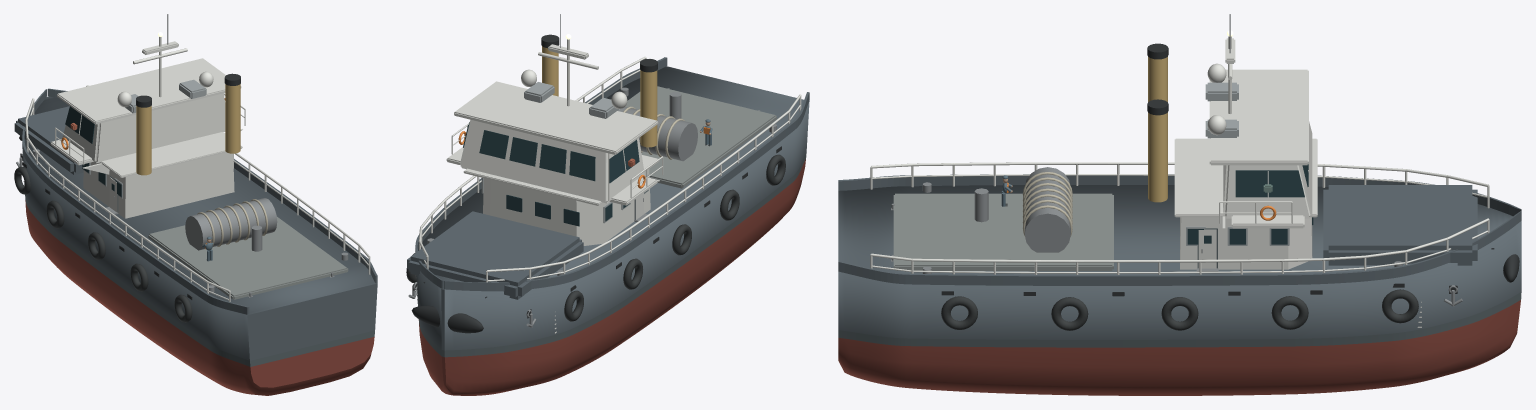
File: tug.glb
3 renders of one model, left to right at view 1: azimuth 30°, elevation 25°; view 2: azimuth 150°, elevation 25°; view 3: azimuth 270°, elevation 25°, orthographic. The views are drawn at different scales.
Visible parts, largest first — view 1: hull, white, bottom, deck, metal, stripe, ochre, rubber, sand, window, frame, black; view 2: hull, white, bottom, deck, window, stripe, rubber, metal, ochre, black, frame, sand; view 3: hull, bottom, white, deck, stripe, rubber, metal, window, ochre, black, sand, frame.
Boxes of the visible parts, <box> form: hull: <box>14,88,377,360</box>; white: <box>23,37,370,301</box>; bottom: <box>25,200,374,395</box>; deck: <box>148,216,348,299</box>; metal: <box>16,14,348,297</box>; stripe: <box>25,176,374,366</box>; ochre: <box>136,84,240,175</box>; rubber: <box>14,166,192,322</box>; sand: <box>197,199,268,246</box>; window: <box>65,106,121,196</box>; frame: <box>82,79,206,198</box>; black: <box>19,73,240,299</box>; hull: <box>407,57,809,350</box>; white: <box>417,39,801,333</box>; bottom: <box>418,159,805,395</box>; deck: <box>626,86,776,188</box>; window: <box>463,124,648,226</box>; stripe: <box>419,152,806,357</box>; rubber: <box>406,154,785,321</box>; metal: <box>408,14,776,327</box>; ochre: <box>542,46,657,147</box>; black: <box>411,34,781,333</box>; frame: <box>481,82,648,223</box>; sand: <box>623,106,684,159</box>; hull: <box>838,174,1521,339</box>; bottom: <box>838,300,1520,395</box>; white: <box>870,36,1489,327</box>; deck: <box>893,193,1113,270</box>; stripe: <box>838,228,1521,347</box>; rubber: <box>941,289,1418,330</box>; metal: <box>891,14,1462,306</box>; window: <box>1187,164,1313,244</box>; ochre: <box>1148,57,1167,202</box>; black: <box>941,43,1519,296</box>; sand: <box>1022,172,1072,236</box>; frame: <box>1186,82,1289,245</box>.
Size of the model in its own units: 11.67 by 17.8 by 31.
